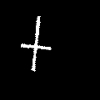single_crochet: (21, 16, 50, 70)
